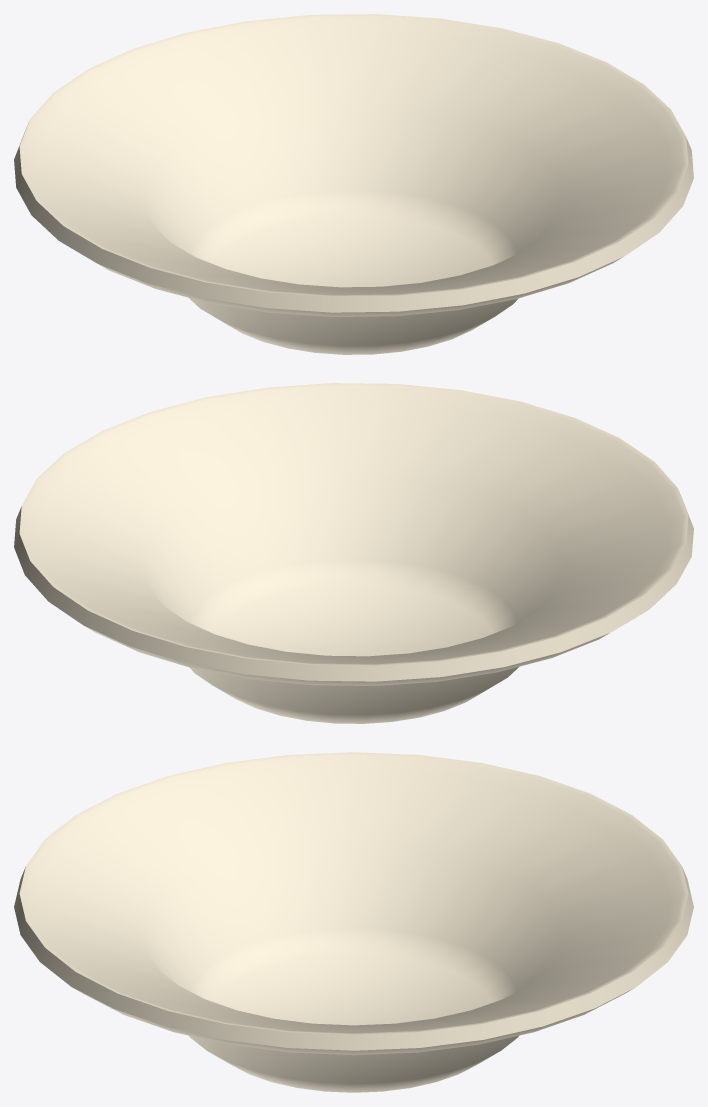
Rendered from prato_fundo.glb.
3 renders of one model, top to bottom at view 1: azimuth 30°, elevation 25°; view 2: azimuth 150°, elevation 25°; view 3: azimuth 270°, elevation 25°, orthographic.
Parts seen in each view (by area): view 1: prato_fundo; view 2: prato_fundo; view 3: prato_fundo.
Part boxes in pixels (x1,y1,x2,y2): prato_fundo: [14, 14, 693, 354]; prato_fundo: [14, 383, 693, 723]; prato_fundo: [14, 752, 693, 1092].
Size of the model in its own units: 0.23 by 0.051 by 0.23.
Materials: 1 (1 with a texture image).
